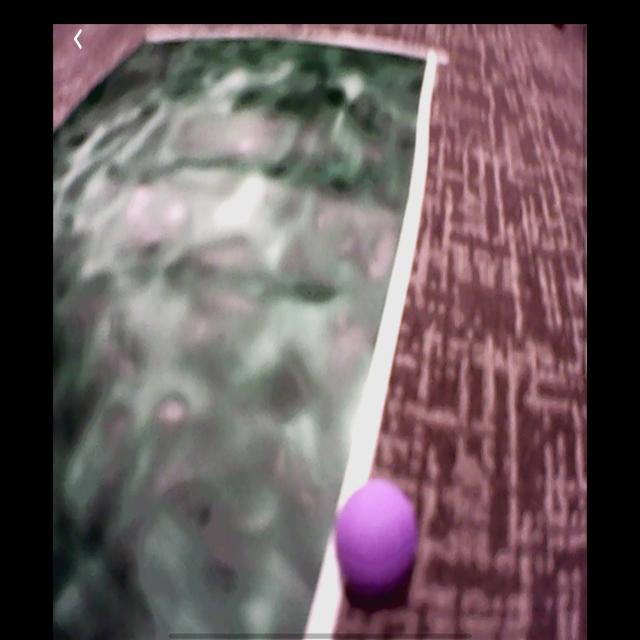ball: (338, 482, 416, 591)
